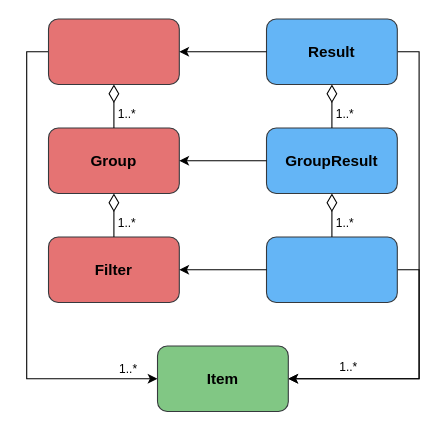
The diagram is 447 pixels wide and 431 high, and some of its shapes have lost their labels. The shapes that lost their labels are listed below. From the top down, each one's centre as x and y in pixels, then its label:
At pixel 113 51: "Schema".
At pixel 331 269: "FilterResult".
